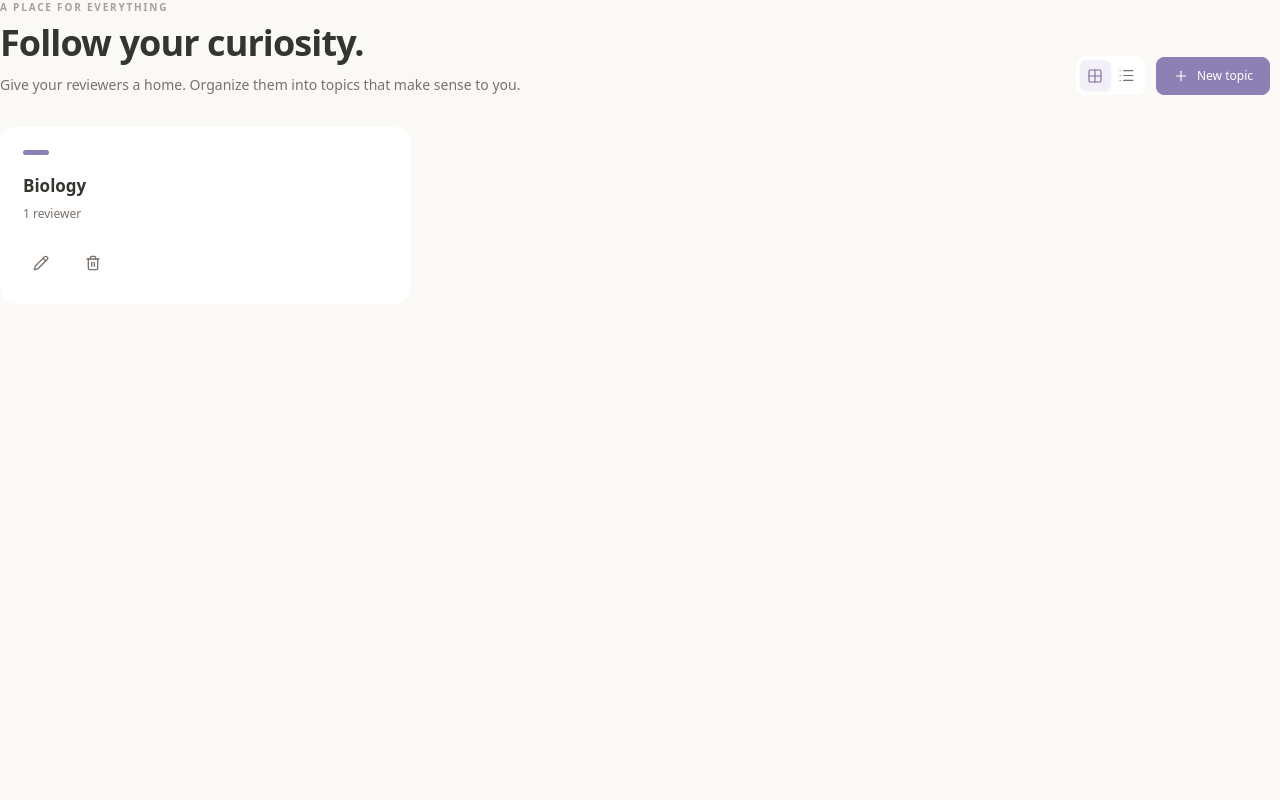
Test: failed topic saves keep the editor open and it can be closed
The image size is (1280, 800).
Click the button named "Edit topic" at (41, 262), box [23,244,59,280]
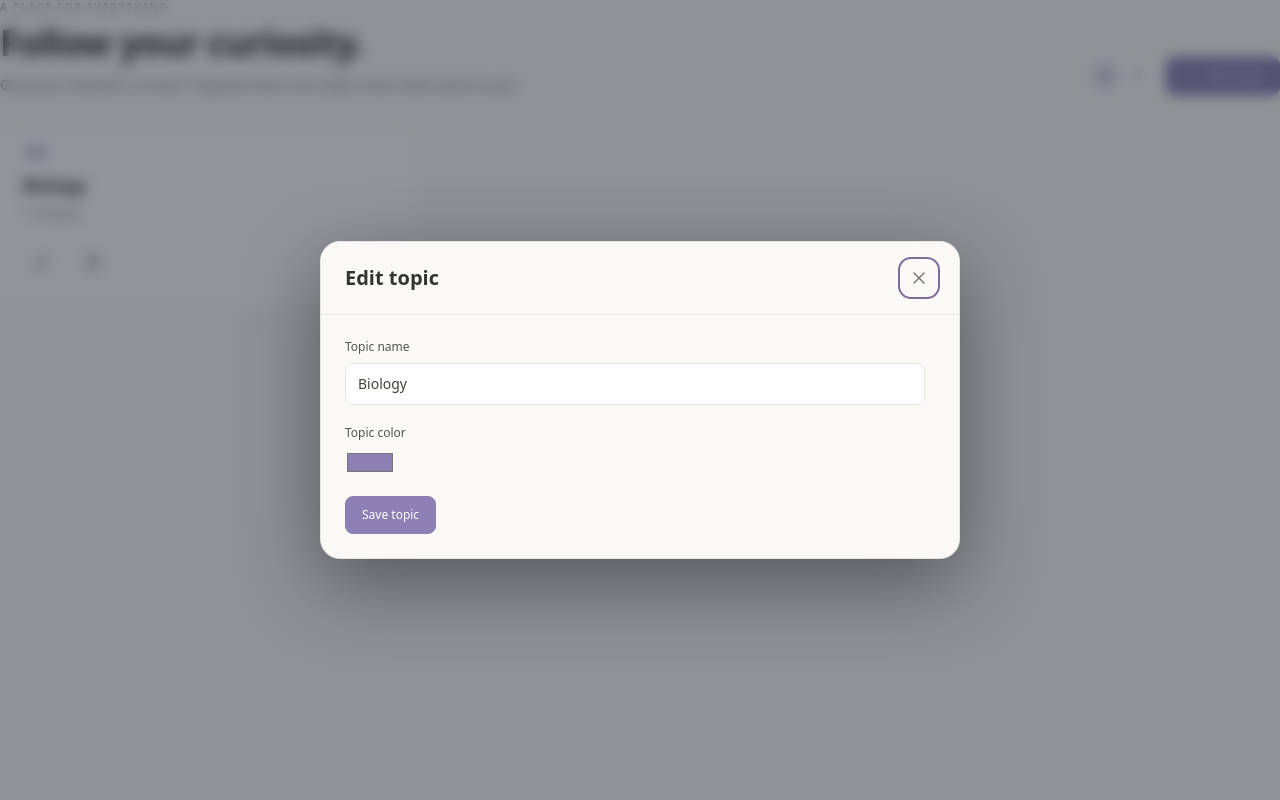
Click the button "Save topic" at (391, 515), box [345,496,436,534]
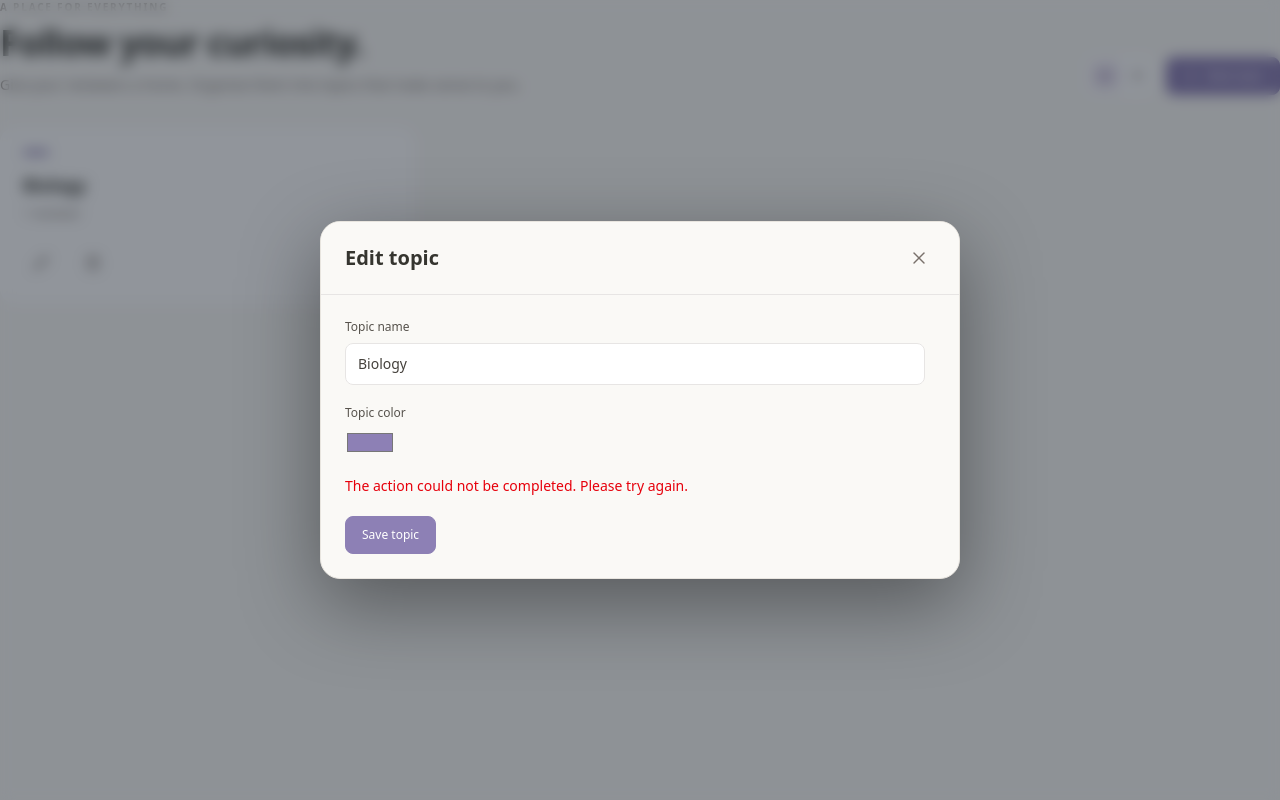
Check: the dialog is shown, box [320,221,960,579]
Click the button named "Close dialog" at (919, 258), box [903,242,935,274]
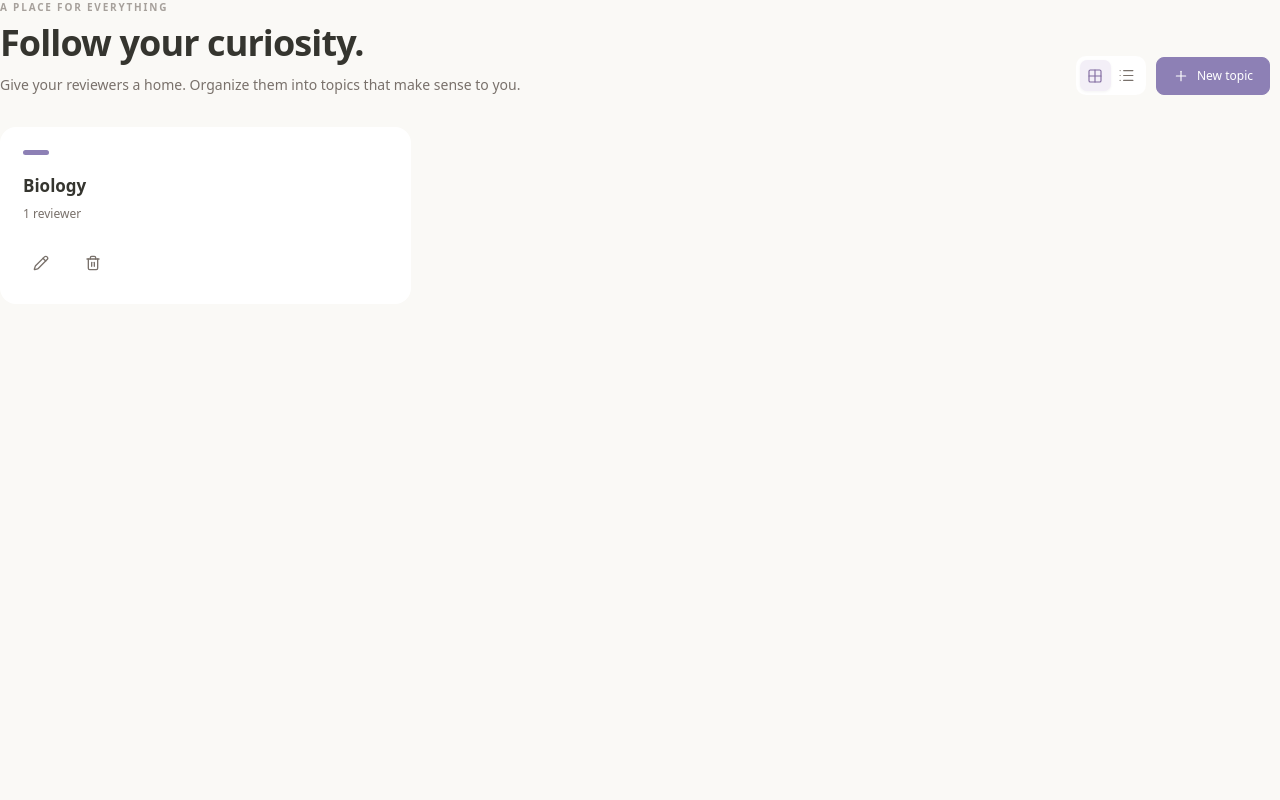
Check: the dialog is gone
